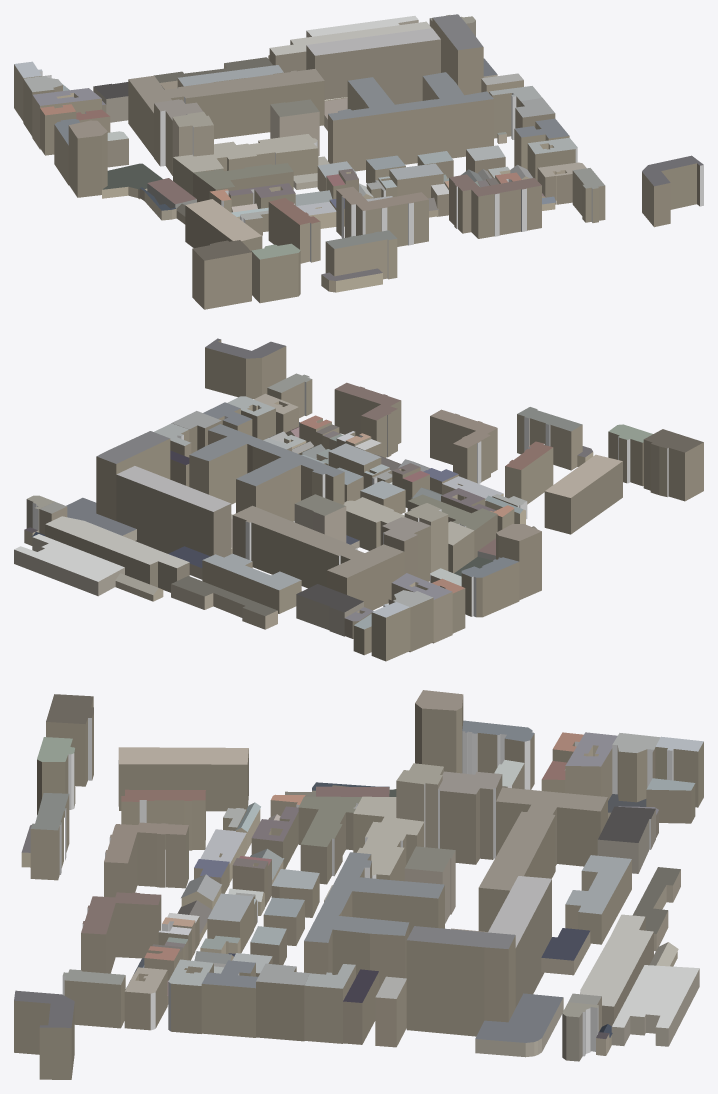
3 renders of one model, top to bottom at view 1: azimuth 30°, elevation 25°; view 2: azimuth 150°, elevation 25°; view 3: azimuth 270°, elevation 25°, orthographic. The views are drawn at different scales.
Visible parts, largest first — view 1: tuile; view 2: tuile; view 3: tuile.
Boxes of the visible parts, box(x1,y1,x2,y2) form: tuile: box(14, 14, 703, 309); tuile: box(14, 338, 703, 661); tuile: box(14, 690, 703, 1079).
Bounding box in the file's own units: 280 × 40.08 × 266.
